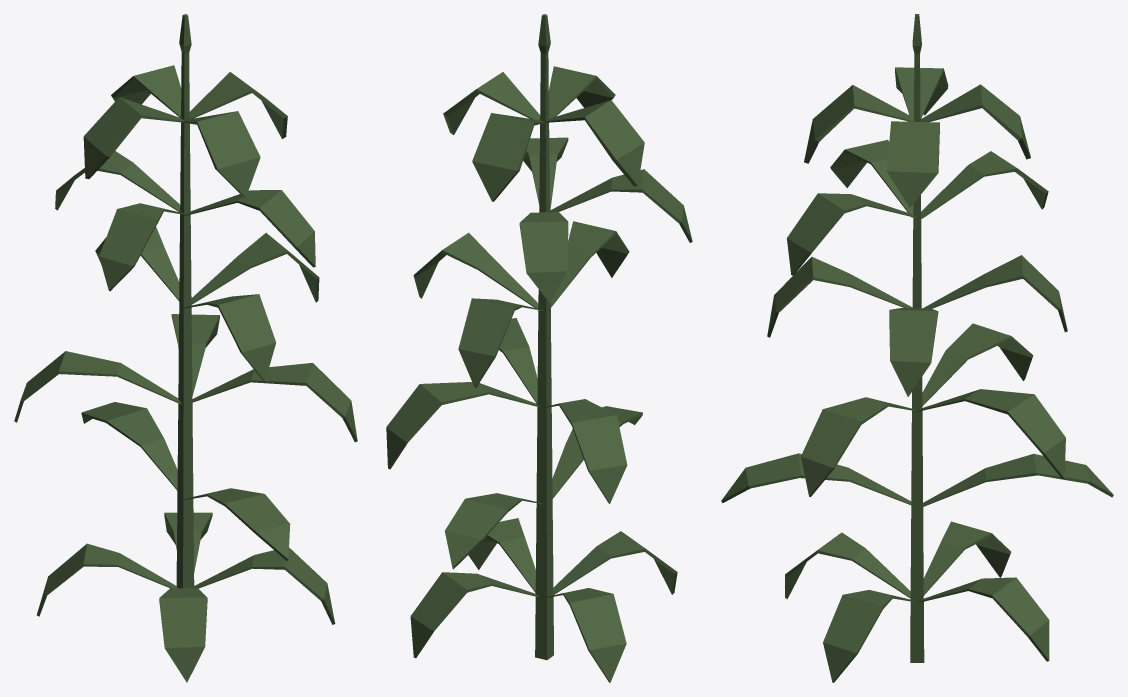
File: corn1.glb
The picture shows the model from 3 angles, left to right: view 1: azimuth 30°, elevation 25°; view 2: azimuth 150°, elevation 25°; view 3: azimuth 270°, elevation 25°; orthographic projection.
Visible parts, largest first — view 1: Corn_1; view 2: Corn_1; view 3: Corn_1.
Boxes of the visible parts, x1,y1,x2,y2 form: Corn_1: [14, 14, 357, 682]; Corn_1: [386, 14, 692, 682]; Corn_1: [721, 14, 1113, 682].
Size of the model in its own units: 0.8237 by 1.98 by 1.09.
